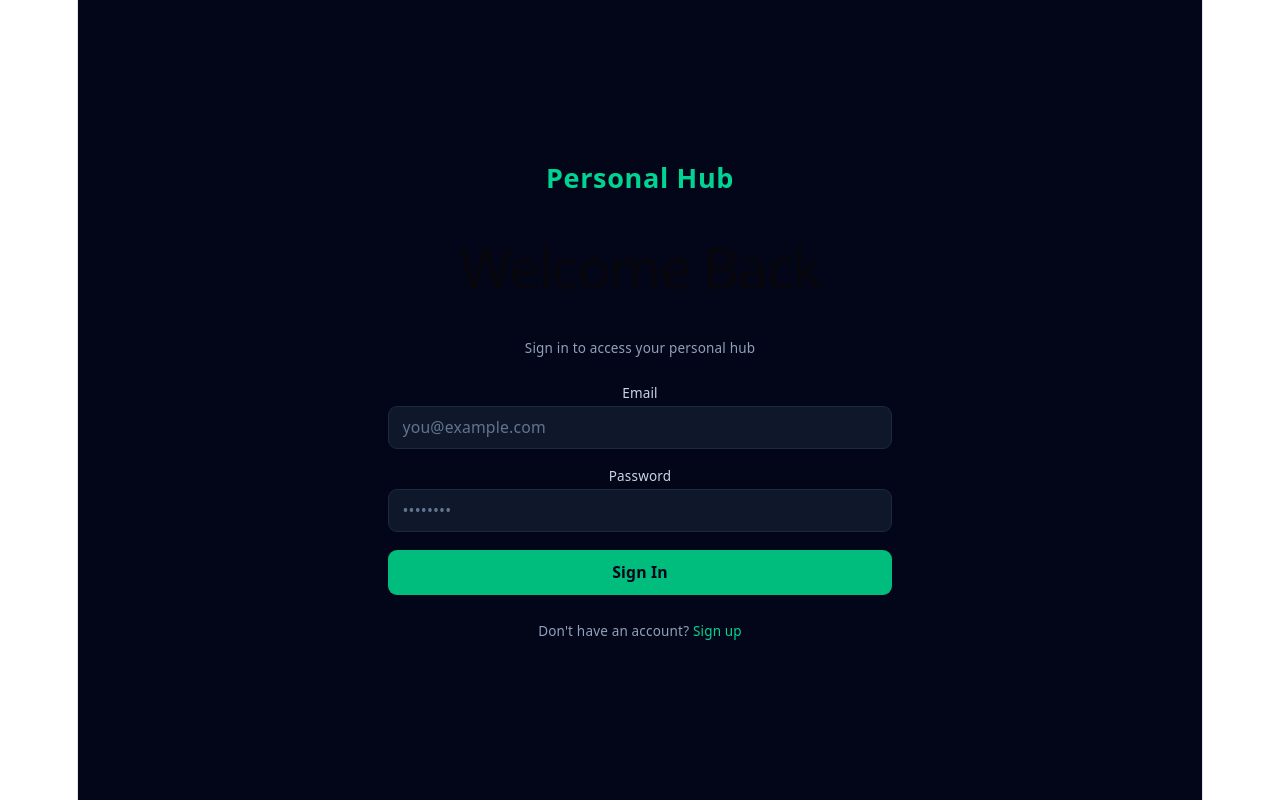
Test case: LoginPage component › displays inline validation errors and prevents submit when inputs are empty or invalid
Step 1. Click the button "Sign In" → (640, 572), box [388,550,892,595]
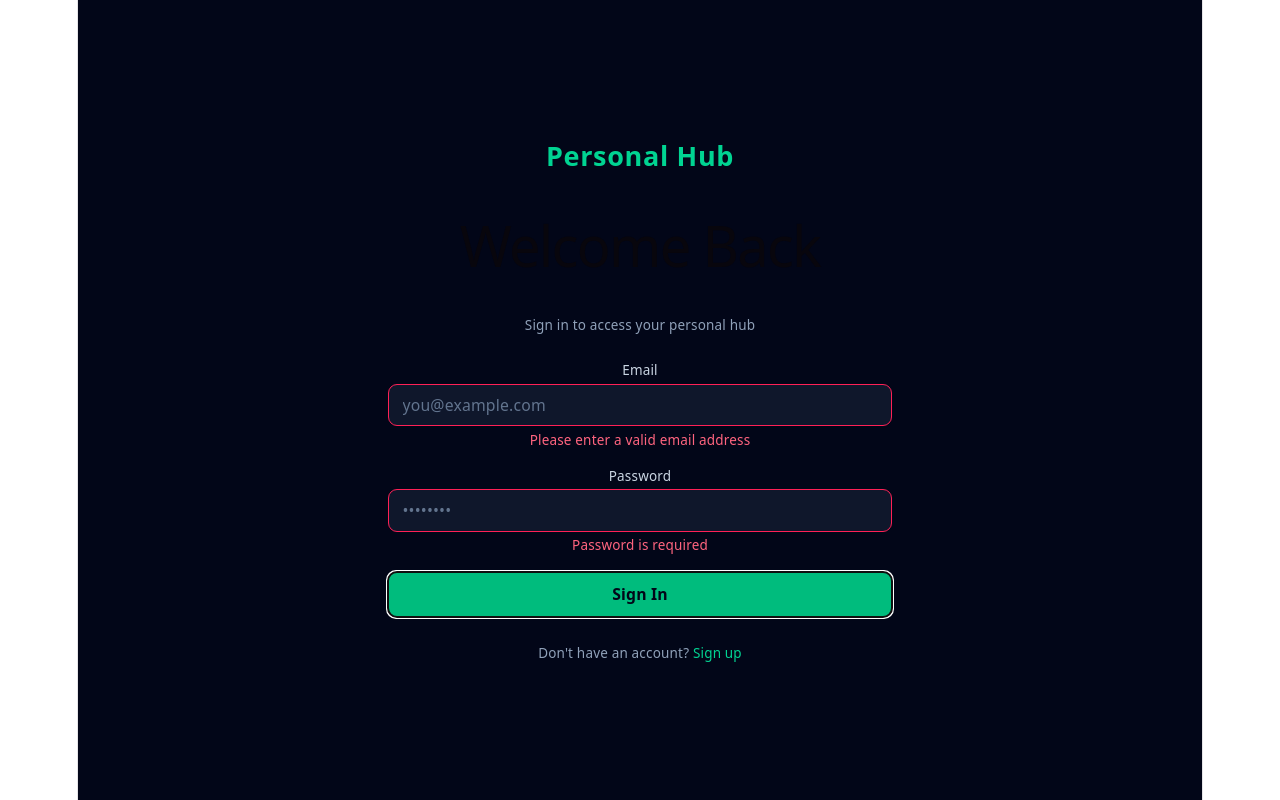
Check: the text "Please enter a valid email address" is shown, box [530,431,750,449]
Check: the text "Password is required" is shown, box [572,536,708,554]
